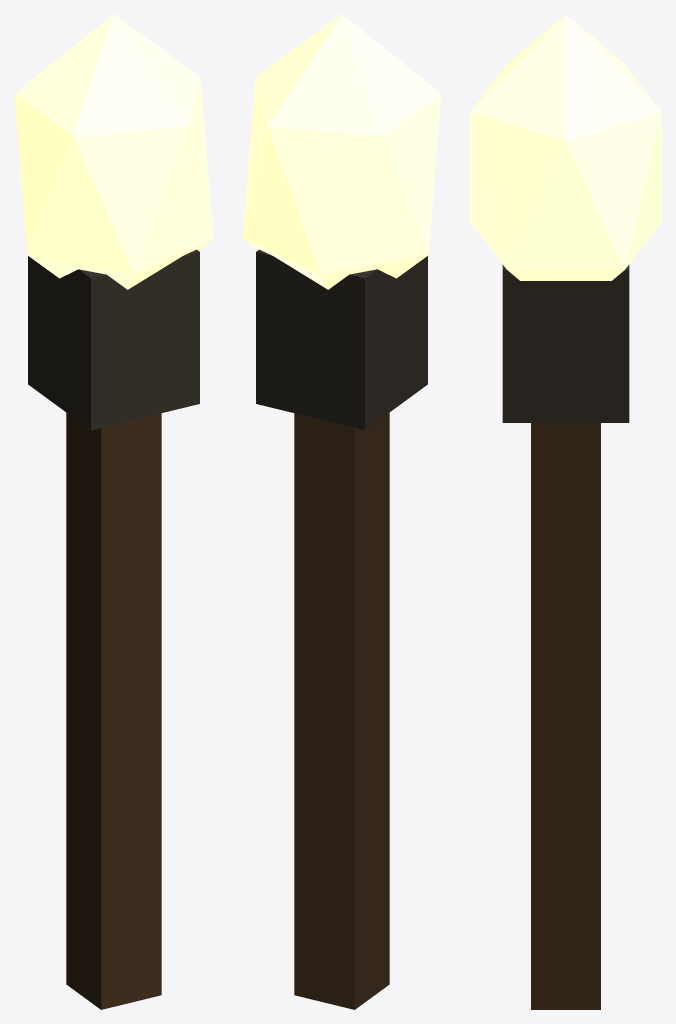
File: torch.fbx
3 views of the same model, side by side, from view 1: azimuth 30°, elevation 25°; view 2: azimuth 150°, elevation 25°; view 3: azimuth 270°, elevation 25° (orthographic).
Parts seen in each view (by area): view 1: Torch; view 2: Torch; view 3: Torch.
Boxes of the visible parts, box(x1,y1,x2,y2) form: Torch: box(14, 14, 213, 1009); Torch: box(242, 14, 441, 1009); Torch: box(470, 14, 661, 1009).
Bounding box in the file's own units: 0.1431 × 0.77 × 0.1361.
